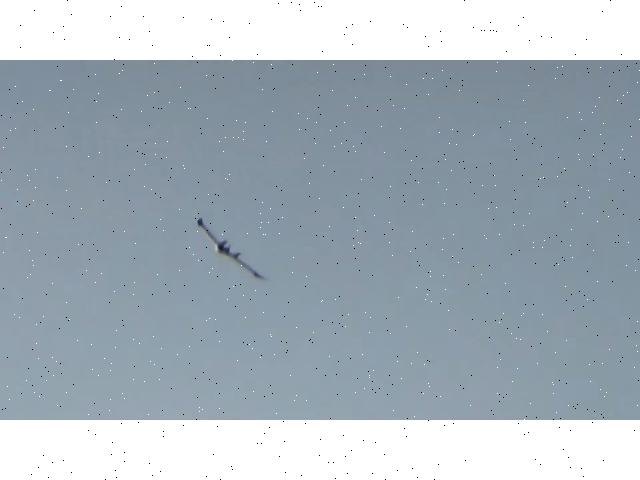Anti-Drone: (197, 218, 263, 280)
